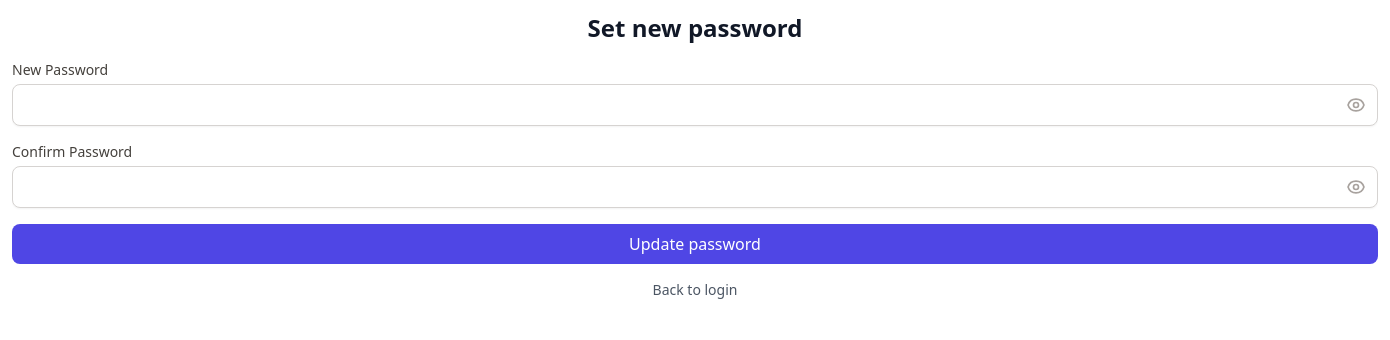
PasswordResetForm - Reset mode (with token) › shows error when new password lacks complexity
This screenshot has width=1390, height=340.
Type "alllowercase" into the password field labelled "New Password".
click(695, 105); type("alllowercase")  # box [12,84,1378,126]
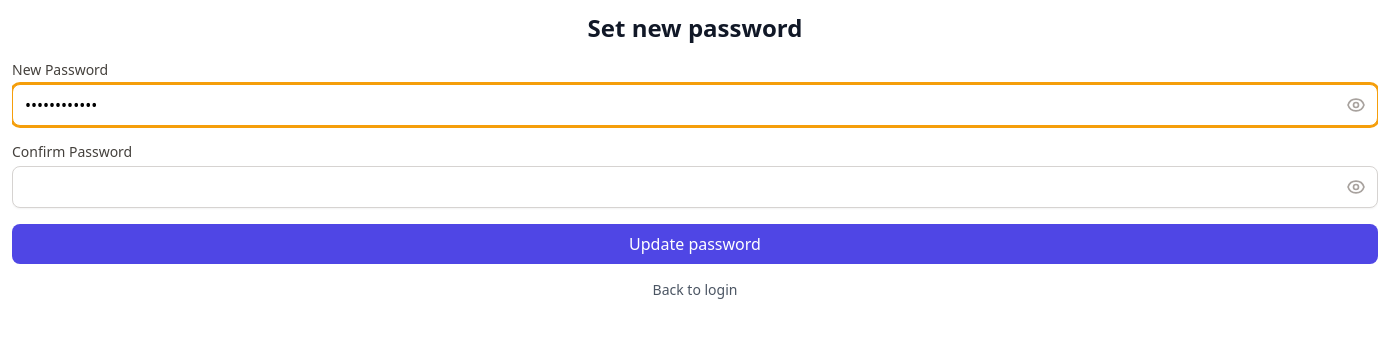
Type "alllowercase" into the password field labelled "Confirm Password".
click(695, 187); type("alllowercase")  # box [12,166,1378,208]
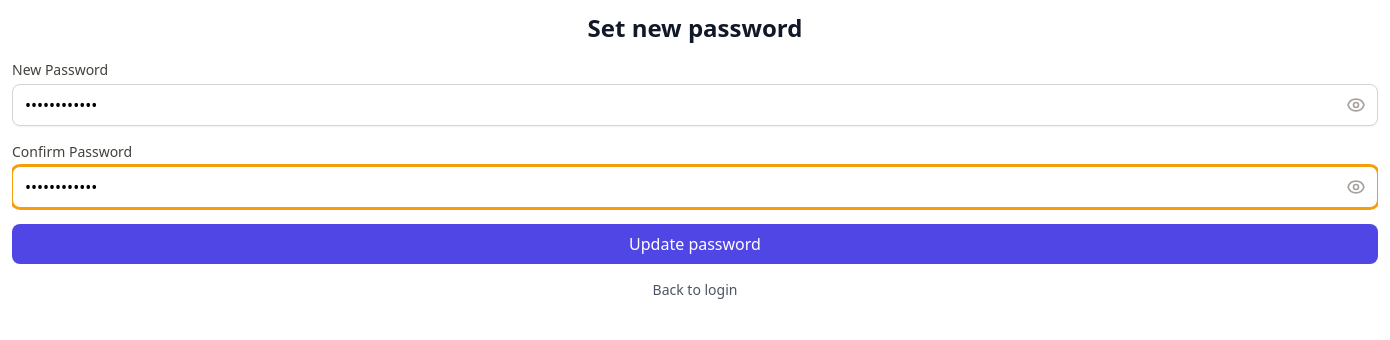
Click the button "Update password".
click(695, 244)  # box [12,224,1378,264]
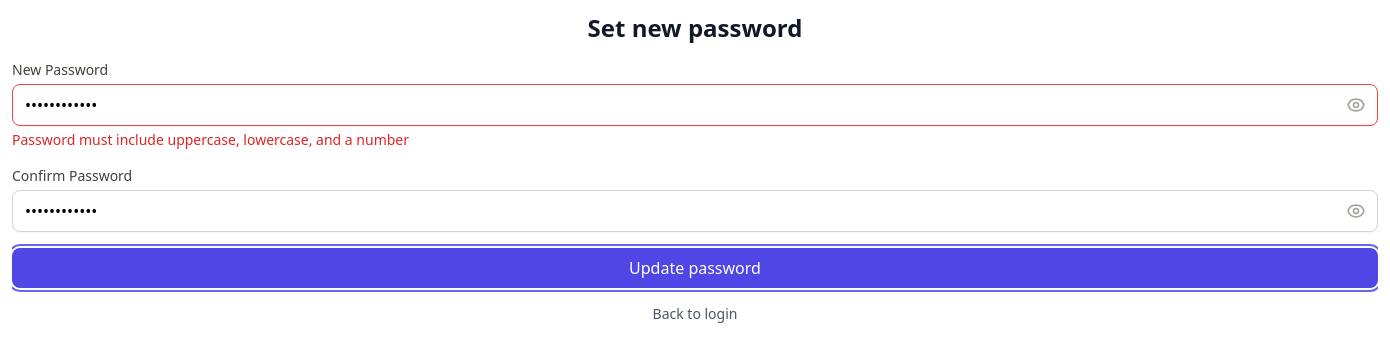
Check: the text "Password must include uppercase, lowercase, and a number" is shown, box [12,130,409,149]
